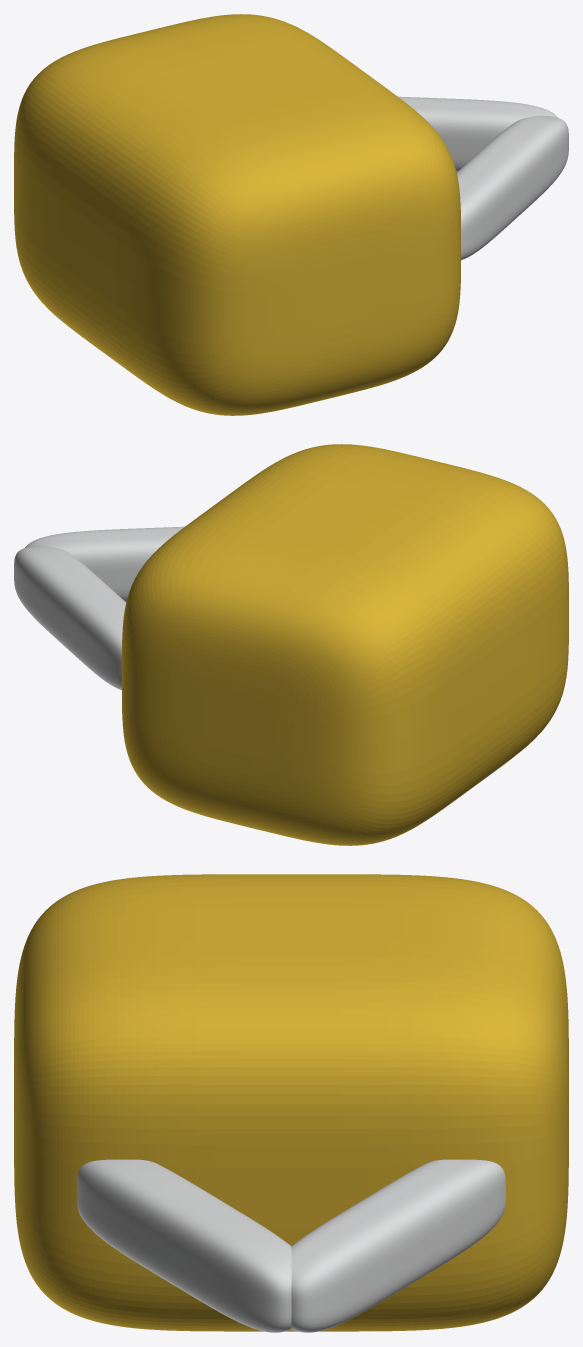
File: enamel_coffee_mug_sq.glb
The picture shows the model from 3 angles, top to bottom: view 1: azimuth 30°, elevation 25°; view 2: azimuth 150°, elevation 25°; view 3: azimuth 270°, elevation 25°; orthographic projection. The views are drawn at different scales.
Visible parts, largest first — view 1: superquadric_0, superquadric_1, superquadric_2; view 2: superquadric_0, superquadric_2, superquadric_1; view 3: superquadric_0, superquadric_1, superquadric_2.
Part boxes in pixels (<box>): superquadric_0: <box>14,14,460,415</box>; superquadric_1: <box>456,115,568,260</box>; superquadric_2: <box>398,96,557,172</box>; superquadric_0: <box>122,444,568,845</box>; superquadric_2: <box>14,545,126,690</box>; superquadric_1: <box>25,526,184,602</box>; superquadric_0: <box>14,874,568,1331</box>; superquadric_1: <box>77,1159,291,1332</box>; superquadric_2: <box>291,1159,505,1332</box>.
Bounding box in the file's own units: 1 × 0.535 × 0.7782.
